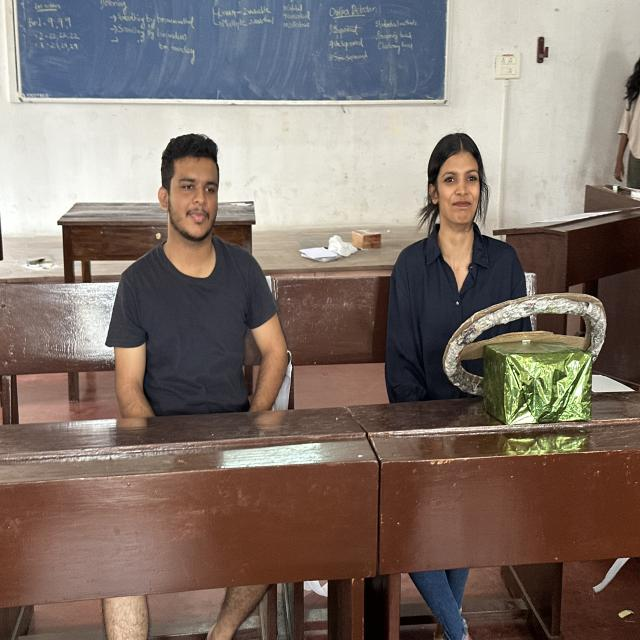Helmet: (106, 246, 294, 427), (376, 237, 548, 412)
